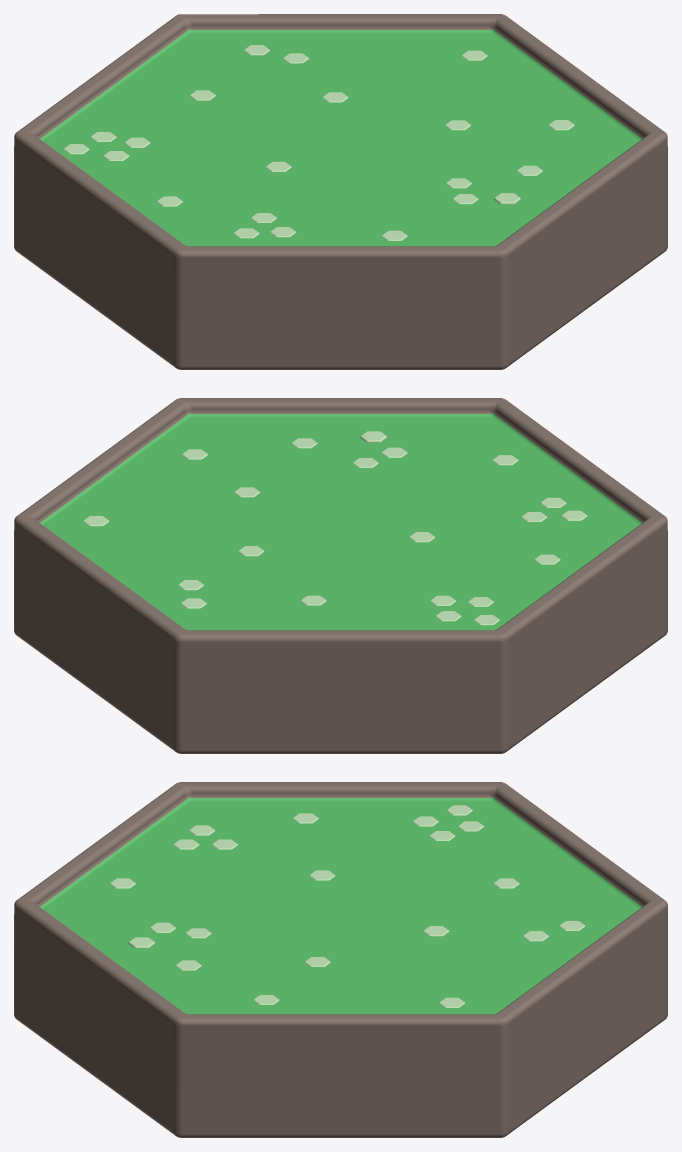
Rendered from grass_base.fbx.
3 views of the same model, one above another, from view 1: azimuth 30°, elevation 25°; view 2: azimuth 150°, elevation 25°; view 3: azimuth 270°, elevation 25° (orthographic).
Visible parts, largest first — view 1: grass base, little stone; view 2: grass base, little stone; view 3: grass base, little stone.
Boxes of the visible parts, box(x1,y1,x2,y2) form: grass base: box(14, 14, 667, 369); little stone: box(63, 45, 574, 240); grass base: box(14, 398, 667, 753); little stone: box(83, 431, 587, 625); grass base: box(14, 782, 667, 1137); little stone: box(109, 805, 585, 1007).
Bounding box in the file's own units: 866 × 200 × 996.
